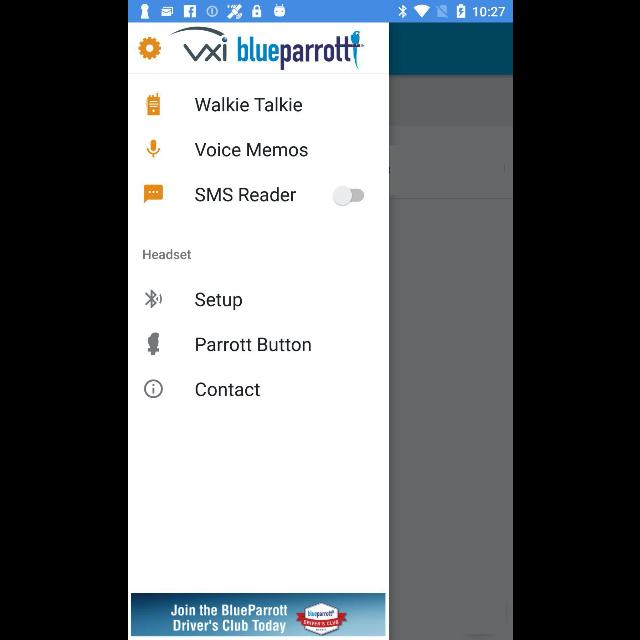icon: (138, 36, 160, 59), (144, 184, 162, 203), (144, 379, 162, 398), (144, 290, 162, 308), (146, 140, 160, 158)
image: (130, 594, 384, 636), (237, 31, 363, 71), (168, 26, 228, 62), (145, 92, 159, 116), (147, 332, 159, 356)
panel: (128, 22, 388, 640)
switch: (332, 186, 364, 206)
text: (194, 187, 296, 203), (196, 338, 310, 352), (195, 143, 308, 157), (194, 98, 302, 112), (194, 383, 260, 397), (194, 292, 242, 310), (142, 248, 190, 260)
uppertaskbar: (128, 1, 512, 23)
